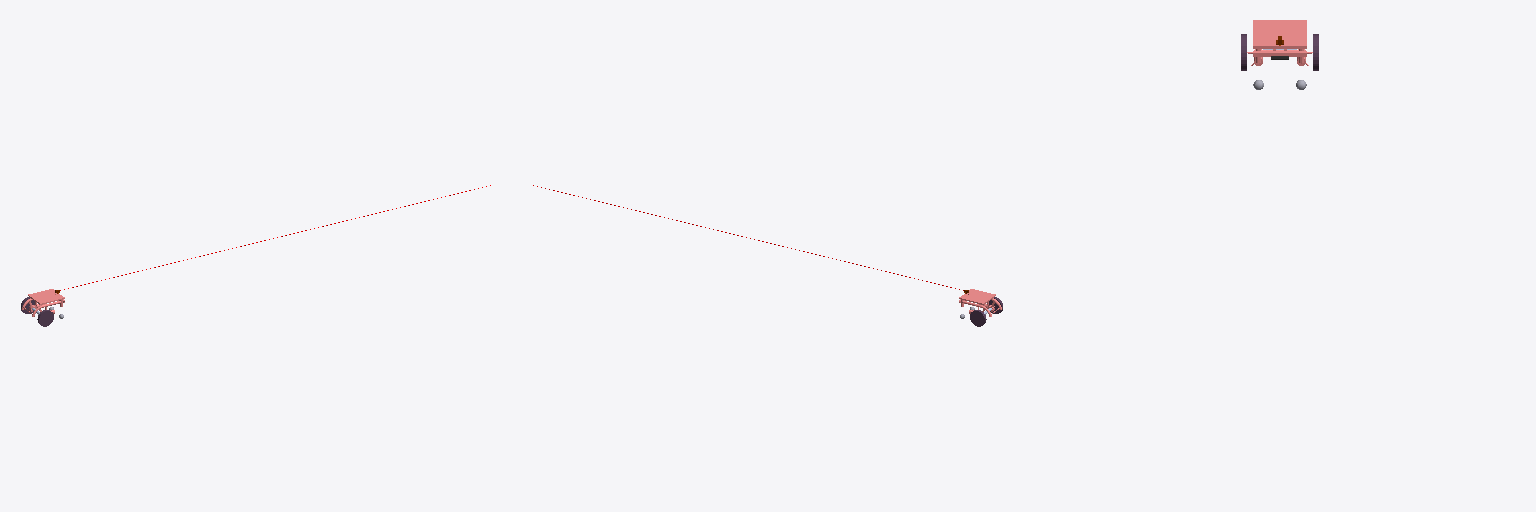
robot.urdf — ryobi:
<?xml version="1.0" encoding="utf-8"?>
<!-- This URDF was automatically created by SolidWorks to URDF Exporter! Originally created by Stephen Brawner (brawner@gmail.com) 
     Commit Version: 1.6.0-4-g7f85cfe  Build Version: 1.6.7995.38578
     For more information, please see http://wiki.ros.org/sw_urdf_exporter -->
<robot
  name="ryobi">
  <link
    name="base_link">
    <inertial>
      <origin
        xyz="0 0 0"
        rpy="0 0 0" />
      <mass
        value="1.97" />
      <inertia
        ixx="0"
        ixy="0"
        ixz="0"
        iyy="0"
        iyz="0"
        izz="0" />
    </inertial>
    <visual>
      <origin
        xyz="0 0 0"
        rpy="1.57075 0 0" />
      <geometry>
        <mesh
          filename="package://ryobi_description/meshes/base_link.STL" />
      </geometry>
      <material
        name="">
        <color
          rgba="0.792156862745098 0.819607843137255 0.929411764705882 1" />
      </material>
    </visual>
    <collision>
      <origin
        xyz="0 0 0.2"
        rpy="0 0 0" />
      <geometry>
        <sphere radius="0.01"/>
      </geometry>
    </collision>
  </link>
  <link
    name="base_chassis">
    <inertial>
      <origin
        xyz="0.181603473423253 0 0.205427256737739"
        rpy="0 0 0" />
      <mass
        value="50.22" />
      <inertia
        ixx="1"
        ixy="0"
        ixz="0"
        iyy="1"
        iyz="0"
        izz="1" />
    </inertial>
    <visual>
      <origin
        xyz="0 0 0"
        rpy="0 0 0" />
      <geometry>
        <mesh
          filename="package://ryobi_description/meshes/qubi_chassis.dae" />
      </geometry>
      <material
        name="">
        <color
          rgba="1 0.6 0.6 1" />
      </material>
    </visual>
    <collision>
      <origin
        xyz="0.18 0 0.2"
        rpy="0 0 0" />
      <geometry>
        <box size="0.8 0.5 0.5"/>
      </geometry>
    </collision>
  </link>
  <joint
    name="chassis_joint"
    type="fixed">
    <origin
      xyz="0 0 0"
      rpy="0 0 0" />
    <parent
      link="base_link" />
    <child
      link="base_chassis" />
    <axis
      xyz="0 0 0" />
  </joint>
  <link
    name="right_wheel">
    <inertial>
      <origin
        xyz="0 0 0"
        rpy="0 0 0" />
      <mass
        value="5.04" />
      <inertia
        ixx="1"
        ixy="0"
        ixz="0"
        iyy="1"
        iyz="0"
        izz="1" />
    </inertial>
    <visual>
      <origin
        xyz="0 0 0"
         rpy="1.57075 0 0" />
      <geometry>
        <cylinder length="0.06" radius="0.175"/>
      </geometry>
      <material
        name="">
        <color
          rgba="0.4 0.3 0.4 1" />
      </material>
    </visual>
    <collision>
      <origin
        xyz="0 0 0"
        rpy="1.57075 0 0" />
      <geometry>
        <cylinder length="0.06" radius="0.175"/>
      </geometry>
    </collision>
  </link>
  <joint
    name="right_wheel_joint"
    type="continuous">
    <origin
      xyz="0 -0.340935167690438 0"
      rpy="0 0 0" />
    <parent
      link="base_chassis" />
    <child
      link="right_wheel" />
    <axis
      xyz="0 1 0" />
  </joint>
  <link
    name="left_wheel">
    <inertial>
      <origin
        xyz="0 0 0"
        rpy="0 0 0" />
      <mass
        value="5.04" />
      <inertia
        ixx="1"
        ixy="0"
        ixz="0"
        iyy="1"
        iyz="0"
        izz="1" />
    </inertial>
    <visual>
      <origin
        xyz="0 0 0"
        rpy="1.57075 0 0" />
      <geometry>
        <cylinder length="0.06" radius="0.175"/>
      </geometry>
      <material
        name="">
        <color
          rgba="0.4 0.3 0.4 1" />
      </material>
    </visual>
    <collision>
      <origin
        xyz="0 0 0"
        rpy="1.57075 0 0" />
      <geometry>
        <cylinder length="0.06" radius="0.175"/>
      </geometry>
    </collision>
  </link>
  <joint
    name="left_wheel_joint"
    type="continuous">
    <origin
      xyz="0 0.340935167690436 0"
      rpy="0 0 0" />
    <parent
      link="base_chassis" />
    <child
      link="left_wheel" />
    <axis
      xyz="0 1 0" />
  </joint>
  <link
    name="camera_link">
    <inertial>
      <origin
        xyz="0 0 0"
        rpy="0 0 0" />
      <mass
        value="0.152248853886065" />
      <inertia
        ixx="0"
        ixy="0"
        ixz="0"
        iyy="0"
        iyz="0"
        izz="0" />
    </inertial>
    <visual>
      <origin
        xyz="0 0 0"
        rpy="0 0 0" />
     <geometry>
        <box size="0.033 0.175 0.03"/>
      </geometry>
      <material
        name="">
        <color
          rgba="0.2 0.2 0.2 1" />
      </material>
    </visual>
    <collision>
      <origin
        xyz="0 0 0"
        rpy="0 0 0" />
      <geometry>
        <box size="0.033 0.175 0.03"/>
      </geometry>
    </collision>
  </link>
  <joint
    name="camera_joint"
    type="fixed">
    <origin
      xyz="0.5 0 0.179722496868772"
      rpy="0 0.937986 0" />
     <parent
      link="base_chassis" />
    <child
      link="camera_link" />
    <axis
      xyz="0 0 0" />
  </joint>
  <link
    name="right_front">
    <inertial>
      <origin
        xyz="0.477137660665035 -0.200921644523563 -0.0488991518472257"
        rpy="0 0 0" />
      <mass
        value="3.50" />
      <inertia
        ixx="0.017"
        ixy="0"
        ixz="0"
        iyy="0.028"
        iyz="0"
        izz="0.015" />
    </inertial>
    <visual>
      <origin
        xyz="0 0 0"
        rpy="0 0 0" />
       <geometry>
        <sphere radius="0.05"/>
      </geometry>
      <material
        name="">
        <color
          rgba="0.7 0.7 0.75 1" />
      </material>
    </visual>
    <collision>
      <origin
        xyz="0 0 0"
        rpy="0 0 0" />
      <geometry>
      <sphere radius="0.05"/>
       </geometry>
    </collision>
  </link>
  <joint
    name="right_front-joint"
    type="fixed">
    <origin
      xyz="0.45 -0.2 -0.125"
      rpy="0 0 0" />
    <parent
      link="base_link" />
    <child
      link="right_front" />
    <axis
      xyz="0 0 0" />
  </joint>
  <link
    name="left_front">
    <inertial>
      <origin
        xyz="0.477137660665035 0.206578355476427 -0.0488991518472244"
        rpy="0 0 0" />
      <mass
        value="3.50" />
      <inertia
        ixx="0.017"
        ixy="0"
        ixz="0"
        iyy="0.028"
        iyz="0"
        izz="0.015" />
    </inertial>
    <visual>
      <origin
        xyz="0 0 0"
        rpy="0 0 0" />
      <geometry>
        <sphere radius="0.05"/>
      </geometry>
      <material
        name="">
        <color
          rgba="0.7 0.7 0.75 1" />
      </material>
    </visual>
    <collision>
      <origin
        xyz="0 0 0"
        rpy="0 0 0" />
      <geometry>
        <sphere radius="0.05"/>
      </geometry>
    </collision>
  </link>
  <joint
    name="left_front_joint"
    type="fixed">
    <origin
      xyz="0.45 0.2 -0.125"
      rpy="0 0 0" />
     <parent
      link="base_link" />
    <child
      link="left_front" />
    <axis
      xyz="0 0 0" />
  </joint>

  <gazebo reference="base_link">
    <material>Gazebo/White</material>
  </gazebo>
  <gazebo reference="base_chassis">
    <material>Gazebo/Orange</material>
  </gazebo>
  <gazebo reference="right_wheel">
    <material>Gazebo/DarkGrey</material>
  </gazebo>
  <gazebo reference="left_wheel">
    <material>Gazebo/DarkGrey</material>
  </gazebo>

  <gazebo reference="camera_link">
    <material>Gazebo/Black</material>
  </gazebo>
  <gazebo reference="right_front">
    <material>Gazebo/Grey</material>

  </gazebo>
  <gazebo reference="left_front">
    <material>Gazebo/Grey</material>

  </gazebo>


  <!-- Scaled Laser Mechanism (1/10th size of Ryobi) -->
  <joint name="laser_pan_joint" type="revolute">
    <origin xyz="0.47 0 0.3" rpy="0 0 0" />
    <parent link="base_chassis" />
    <child link="laser_pan_link" />
    <axis xyz="0 0 1" />
    <limit effort="1000" lower="-2.0" upper="2.0" velocity="0.5" />
  </joint>

  <link name="laser_pan_link">
    <visual>
      <origin rpy="0 0 0" xyz="0 0 0.01" />
      <geometry>
        <cylinder radius="0.02" length="0.02"/>
      </geometry>
      <material name="orange">
        <color rgba="1.0 0.423529 0.039215 1.0" />
      </material>
    </visual>
    <inertial>
      <mass value="0.1" />
      <origin xyz="0 0 0.01"/>
      <inertia ixx="0.005" ixy="0.0" ixz="0.0" iyy="0.005" iyz="0.0" izz="0.005" />
    </inertial>
  </link>

  <joint name="laser_tilt_joint" type="revolute">
    <origin rpy="0 0 0" xyz="0 0 0.02" />
    <parent link="laser_pan_link" />
    <child link="laser_tilt_link" />
    <axis xyz="0 1 0" />
    <limit effort="1000" lower="-1.57" upper="1.57" velocity="0.5" />
  </joint>

  <link name="laser_tilt_link">
    <visual>
      <origin rpy="0.0 0.0 0.0" xyz="0 0 0.005" />
      <geometry>
        <box size="0.08 0.08 0.01"/>
      </geometry>
      <material name="red">
        <color rgba="0.5 0.2 0 1" />
      </material>
    </visual>
    <inertial>
      <mass value="0.06" />
      <origin xyz="0 0 0.005"/>
      <inertia ixx="0.005" ixy="0.0" ixz="0.0" iyy="0.005" iyz="0.0" izz="0.005" />
    </inertial>
  </link>

  <joint name="laser_fixed_joint" type="fixed">
    <parent link="laser_tilt_link" />
    <child link="laser_box_link" />
    <origin rpy="0 0 0" xyz="0 0 0.01" />
  </joint>

  <link name="laser_box_link">
    <visual>
      <origin rpy="0.0 0.0 0.0" xyz="0 0 0.02" />
      <geometry>
        <box size="0.08 0.04 0.04"/>
      </geometry>
      <material name="red">
        <color rgba="0.5 0.2 0 1" />
      </material>
    </visual>
    <inertial>
      <mass value="0.04" />
      <origin xyz="0 0 0.02"/>
      <inertia ixx="0.005" ixy="0.0" ixz="0.0" iyy="0.005" iyz="0.0" izz="0.005" />
    </inertial>
  </link>

  <joint name="laser_beam_joint" type="fixed">
    <parent link="laser_box_link" />
    <child link="laser_beam_link" />
    <origin rpy="0 0 0" xyz="0.04 0 0.02" />
  </joint>

  <link name="laser_beam_link">
    <visual>
      <origin rpy="0.0 1.57079632679 0.0" xyz="5 0 0"/>
      <geometry>
        <cylinder radius="0.004" length="10"/>
      </geometry>
      <material name="laser_red">
        <color rgba="1 0 0 1" />
      </material>
    </visual>
    <inertial>
      <mass value="0.002" />
      <origin xyz="5 0 0"/>
      <inertia ixx="0.005" ixy="0.0" ixz="0.0" iyy="0.005" iyz="0.0" izz="0.005" />
    </inertial>
  </link>

  <transmission name="laser_pan_trans">
    <type>transmission_interface/SimpleTransmission</type>
    <joint name="laser_pan_joint">
      <hardwareInterface>hardware_interface/EffortJointInterface</hardwareInterface>
    </joint>
    <actuator name="laser_pan_motor">
      <hardwareInterface>hardware_interface/EffortJointInterface</hardwareInterface>
      <mechanicalReduction>1</mechanicalReduction>
    </actuator>
  </transmission>

  <transmission name="laser_tilt_trans">
    <type>transmission_interface/SimpleTransmission</type>
    <joint name="laser_tilt_joint">
      <hardwareInterface>hardware_interface/EffortJointInterface</hardwareInterface>
    </joint>
    <actuator name="laser_tilt_motor">
      <hardwareInterface>hardware_interface/EffortJointInterface</hardwareInterface>
      <mechanicalReduction>1</mechanicalReduction>
    </actuator>
  </transmission>

  <gazebo reference="laser_pan_link">
    <material>Gazebo/Orange</material>
  </gazebo>
  <gazebo reference="laser_tilt_link">
    <material>Gazebo/Red</material>
  </gazebo>
  <gazebo reference="laser_box_link">
    <material>Gazebo/Red</material>
  </gazebo>
  <gazebo reference="laser_beam_link">
    <material>Gazebo/Red</material>
  </gazebo>

</robot>

--- Render facts (derived) ---
Views: 3 orthographic renders of the robot side by side, from view 1: azimuth 30°, elevation 25°; view 2: azimuth 150°, elevation 25°; view 3: azimuth 270°, elevation 25°.
Model ryobi with 11 links and 10 joints (2 revolute, 2 continuous, 6 fixed), rooted at base_link, posed every joint at zero.
Links seen in each view (by area): view 1: base_chassis; view 2: base_chassis; view 3: base_chassis.
Boxes of the visible links, x1,y1,x2,y2 form: base_chassis: (22,289,64,316); base_chassis: (959,289,1001,316); base_chassis: (1247,20,1312,65).
Size in the robot's own frame: 10.75 by 0.7419 by 0.545 metres.
2 mesh visuals loaded from 2 distinct referenced files (1 binary STL, 1 Collada DAE).
